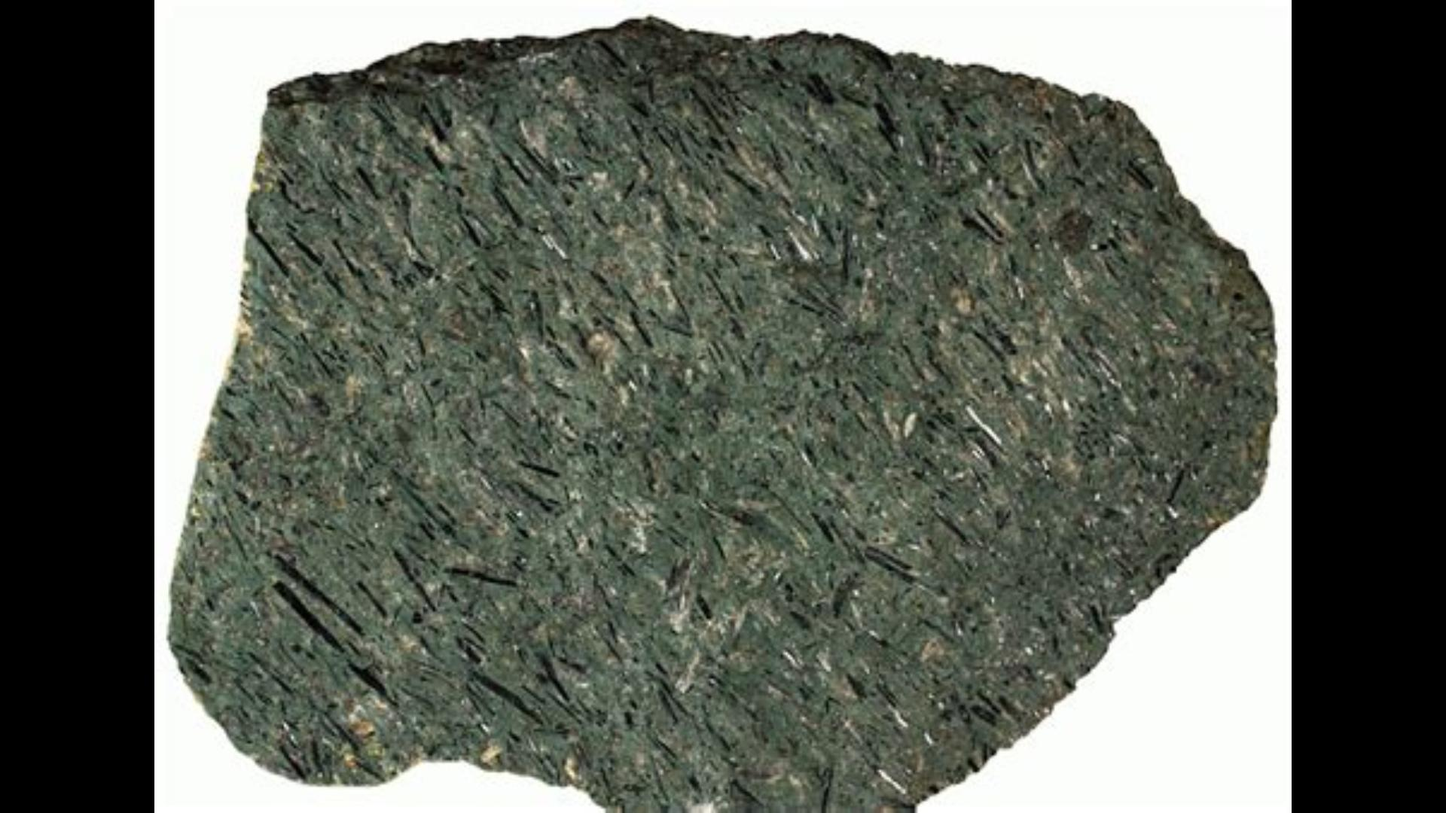rock: (171, 19, 1260, 808)
